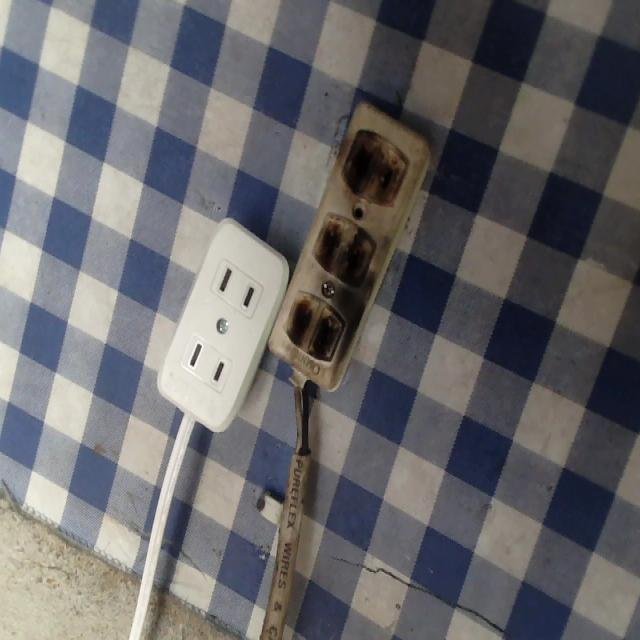-: (342, 126, 402, 202), (318, 216, 371, 284), (289, 297, 342, 353)
